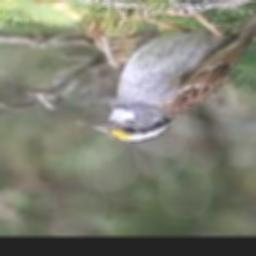Sparrow: (91, 0, 256, 143)
